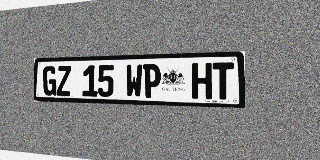1: (82, 65, 98, 97)
5: (98, 65, 114, 97)
G: (43, 66, 57, 96)
H: (192, 63, 212, 99)
P: (143, 64, 161, 98)
T: (213, 62, 234, 100)
W: (126, 64, 143, 98)
Z: (57, 66, 71, 96)
